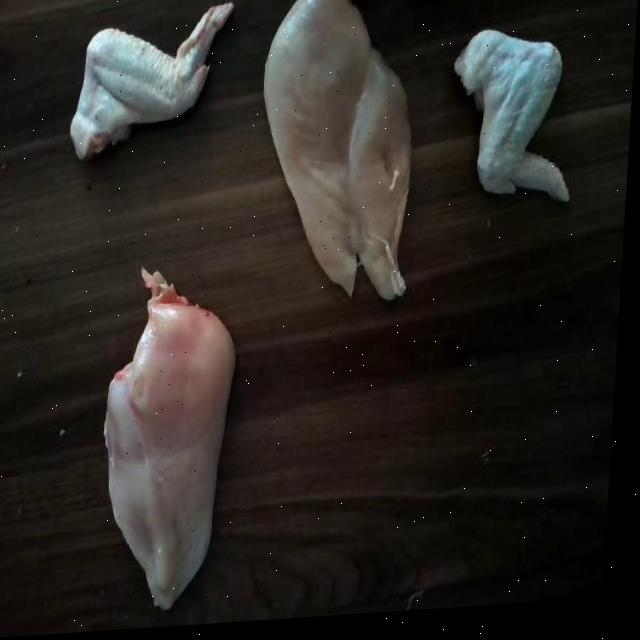breast: (250, 0, 433, 307), (91, 262, 244, 622)
wing: (442, 25, 582, 232), (58, 9, 240, 155)
